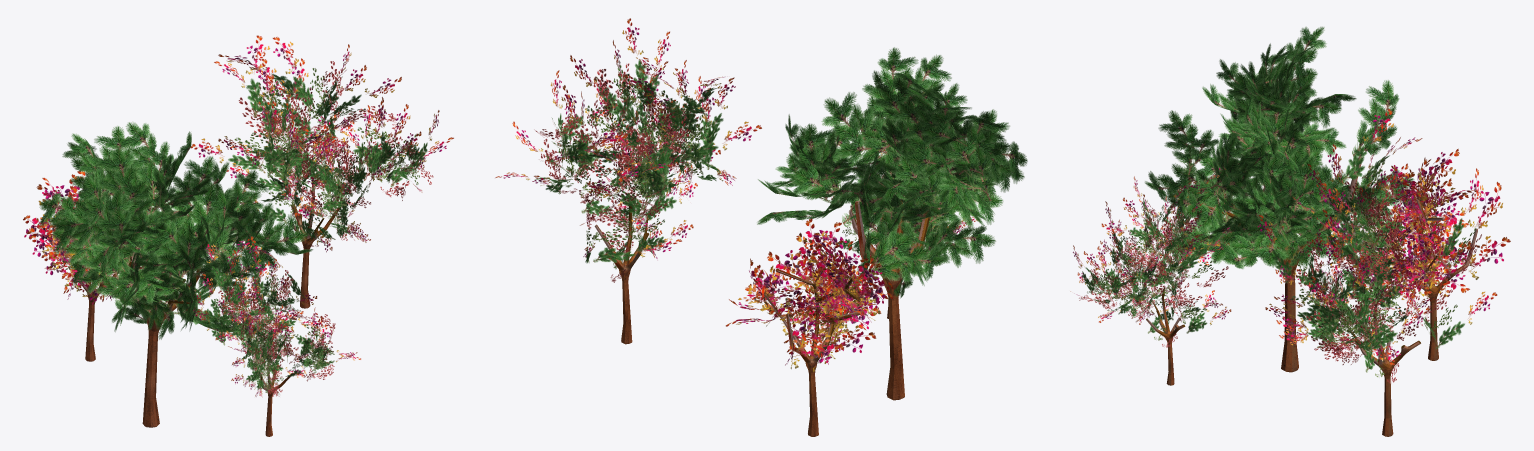
The model's file is Zen_Maple.glb.
3 renders of one model, left to right at view 1: azimuth 30°, elevation 25°; view 2: azimuth 150°, elevation 25°; view 3: azimuth 270°, elevation 25°, orthographic. The views are drawn at different scales.
Visible parts, largest first — view 1: Autumn leaf 02, Autumn leaf 01, Autumn leaf 01.001, Autumn leaf 03, Autumn tree 02, Autumn tree 01, Autumn tree 03, Autumn tree 01.001; view 2: Autumn leaf 02, Autumn leaf 01, Autumn leaf 03, Autumn tree 02, Autumn tree 03, Autumn tree 01; view 3: Autumn leaf 02, Autumn leaf 01, Autumn leaf 01.001, Autumn leaf 03, Autumn tree 02, Autumn tree 03, Autumn tree 01, Autumn tree 01.001.
Part boxes in pixels (<box>): Autumn leaf 02: <box>38,122,312,339</box>; Autumn leaf 01: <box>190,35,453,252</box>; Autumn leaf 01.001: <box>185,236,361,397</box>; Autumn leaf 03: <box>23,171,153,304</box>; Autumn tree 02: <box>129,252,200,427</box>; Autumn tree 01: <box>289,179,340,308</box>; Autumn tree 03: <box>58,241,117,361</box>; Autumn tree 01.001: <box>260,348,292,436</box>; Autumn leaf 02: <box>757,47,1027,298</box>; Autumn leaf 01: <box>495,18,761,282</box>; Autumn leaf 03: <box>725,218,893,371</box>; Autumn tree 02: <box>849,200,938,400</box>; Autumn tree 03: <box>764,268,863,436</box>; Autumn tree 01: <box>594,195,649,344</box>; Autumn leaf 02: <box>1144,26,1414,270</box>; Autumn leaf 01: <box>1257,108,1497,383</box>; Autumn leaf 01.001: <box>1070,167,1231,347</box>; Autumn leaf 03: <box>1350,148,1510,297</box>; Autumn tree 02: <box>1198,156,1362,372</box>; Autumn tree 03: <box>1378,188,1477,360</box>; Autumn tree 01: <box>1349,300,1420,436</box>; Autumn tree 01.001: <box>1146,287,1185,385</box>.
Size of what is drawn, in the model's own units: 18.43 by 12.43 by 15.64.
2 materials, 2 textured.
